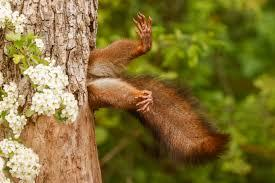Non_Gorille: (61, 11, 233, 175)
